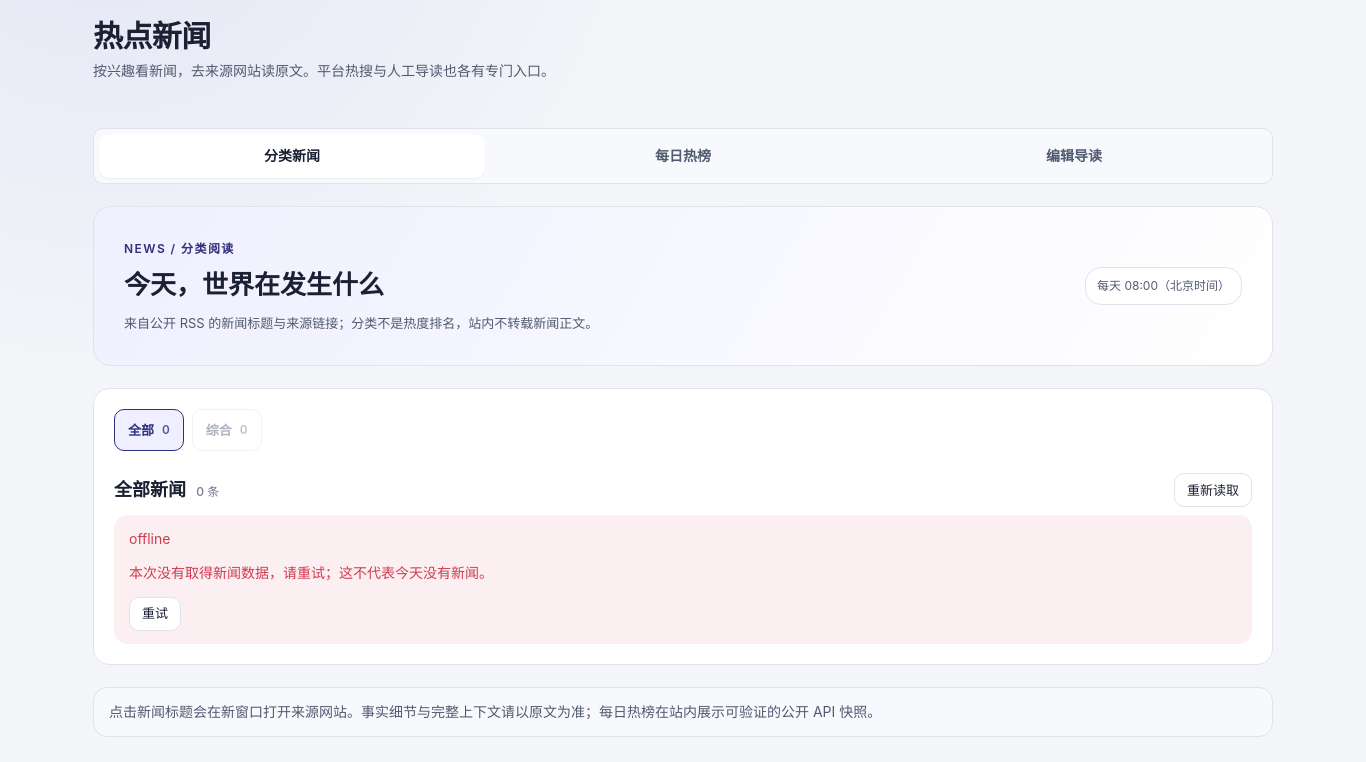
Test: community news public pages › shows a retryable fetch error, never a fabricated preparing state, and recovers
Expected: the message shows "本次没有取得新闻数据", [129, 564, 493, 582]
Click the button "重试" at (155, 614), box [129, 597, 181, 631]
(page scrolled)
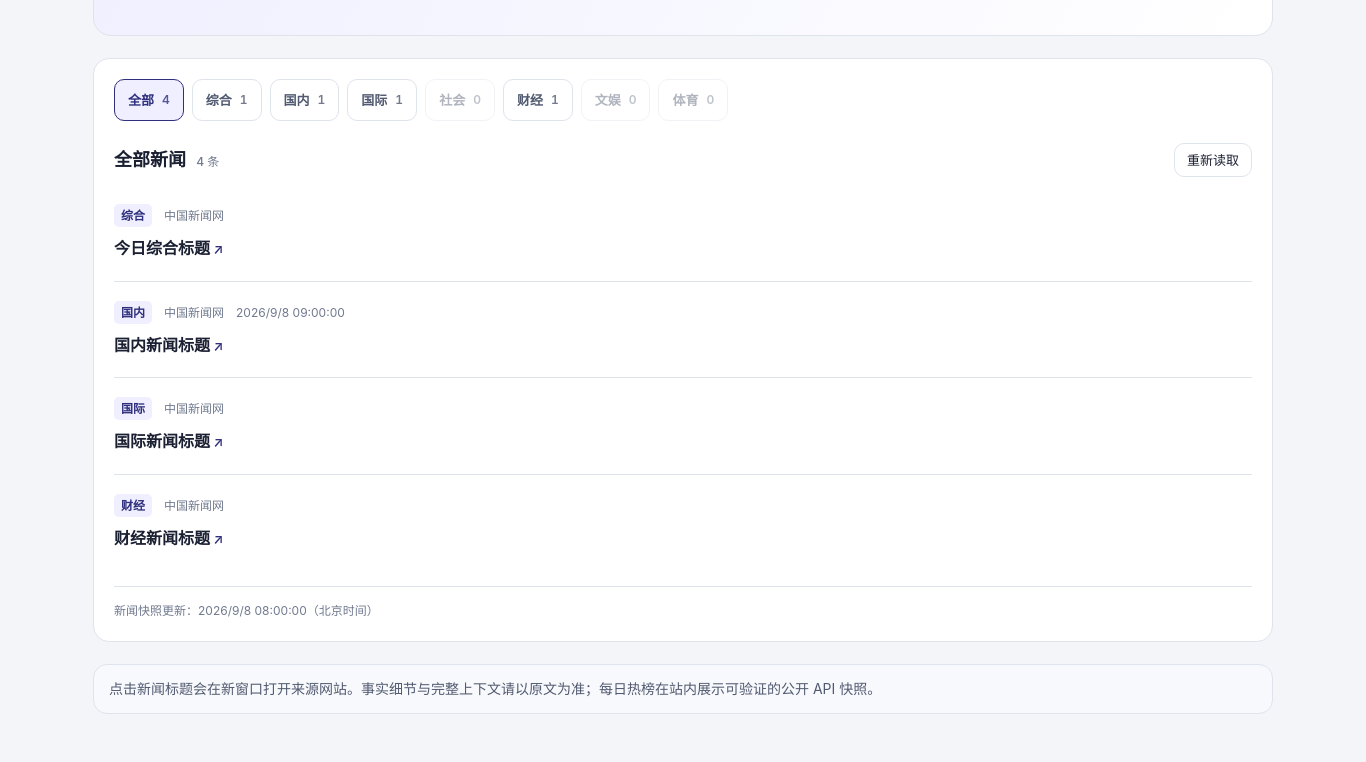
Now the message "offline 本次没有取得新闻数据，请重试；这不代表今天没有新闻。 重试" is gone
Now the text "新闻快照更新：2026/9/8 08:00:00（北京时间）" is shown, box [114, 586, 1252, 621]
